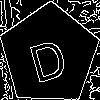D: (24, 29, 70, 84)
